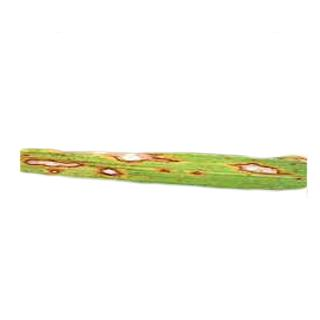Blast: (229, 157, 296, 180), (24, 155, 82, 178), (105, 148, 170, 164), (97, 165, 130, 180)
